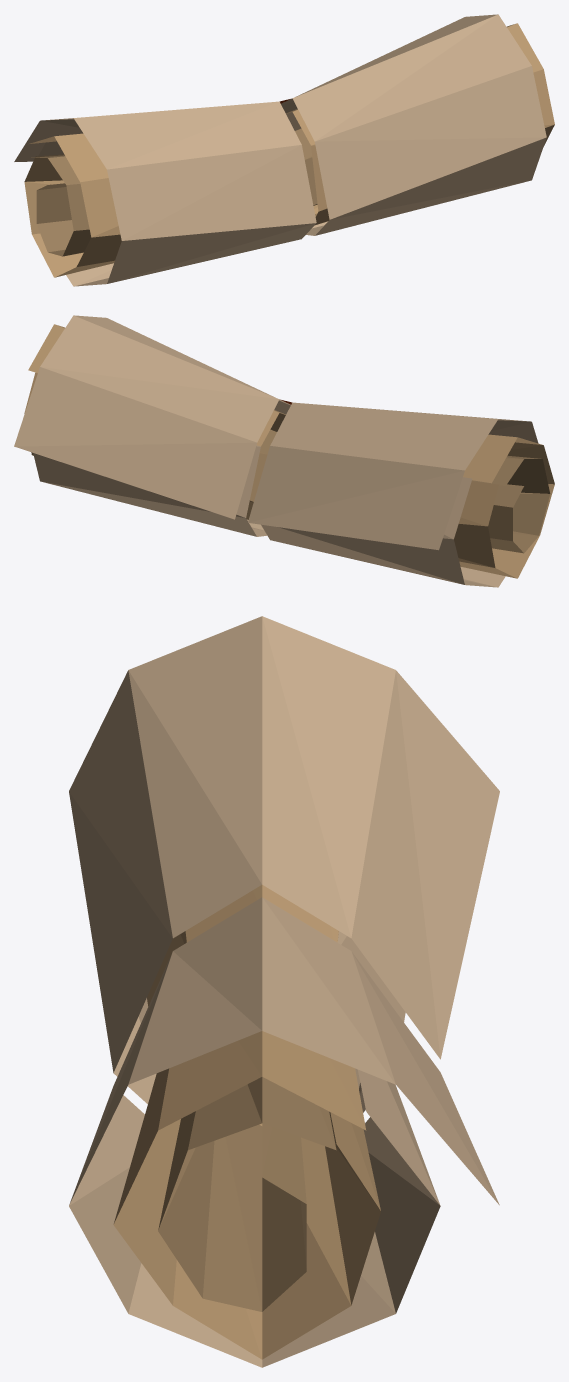
Rendered from inv_newcomer_map.obj.
3 views of the same model, one above another, from view 1: azimuth 30°, elevation 25°; view 2: azimuth 150°, elevation 25°; view 3: azimuth 270°, elevation 25° (orthographic). The views are drawn at different scales.
Size of the model in its own units: 0.5781 by 0.1953 by 0.2266.
